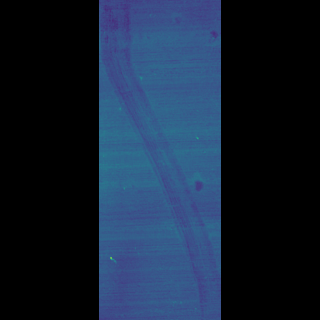Loch: (135, 2, 183, 309)
